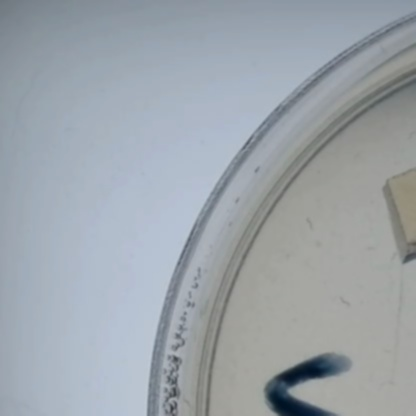worm: (298, 218, 332, 248), (335, 289, 361, 312), (382, 374, 405, 392), (363, 243, 383, 260), (402, 129, 416, 144), (387, 252, 395, 266)
